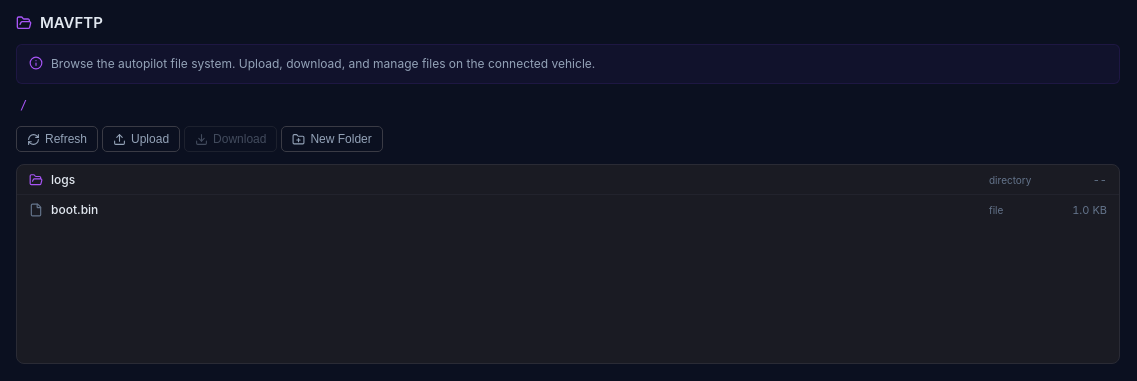
Test case: MavFtp › navigates into a directory on double-click
Step 1. Double-click the element with test id "ftp-entry-logs" → (568, 180), box [17,165,1119,195]
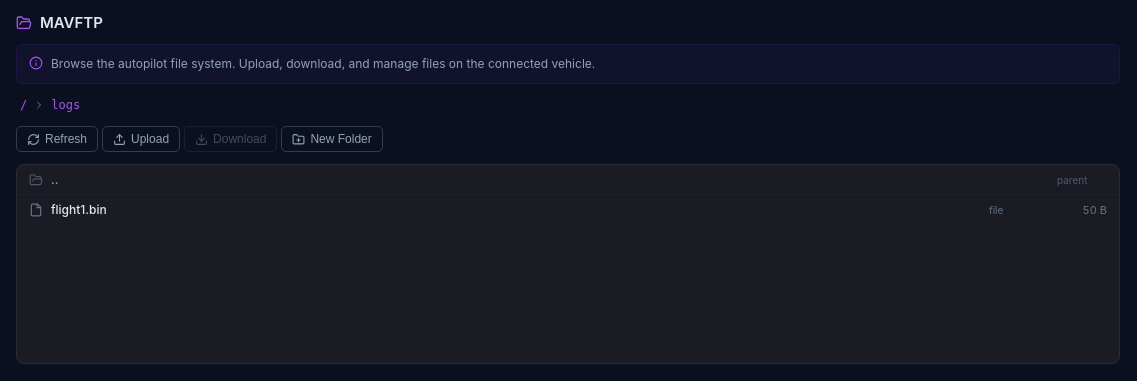
Result: the text "flight1.bin" is shown at [51,202,107,217]
